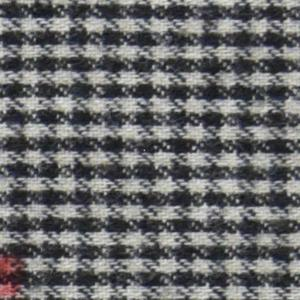Stain: (1, 250, 30, 300)
